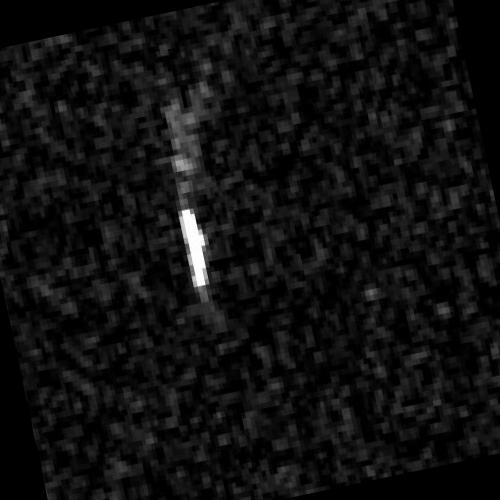ship: (178, 207, 208, 293)
